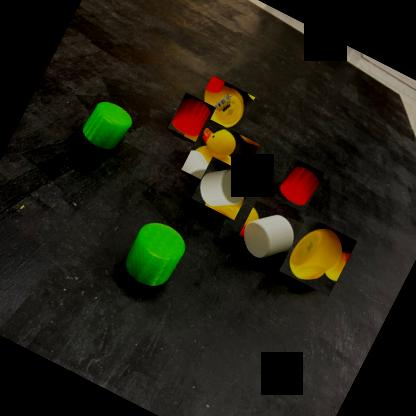duck: (278, 216, 356, 297), (180, 118, 260, 196), (191, 75, 255, 138)
green cylinder: (116, 212, 194, 296), (74, 92, 138, 157)
red cylinder: (273, 158, 324, 212), (166, 92, 216, 143)
white cylinder: (232, 200, 303, 271), (191, 156, 255, 220)
